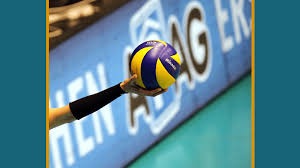ball: (129, 39, 182, 91)
